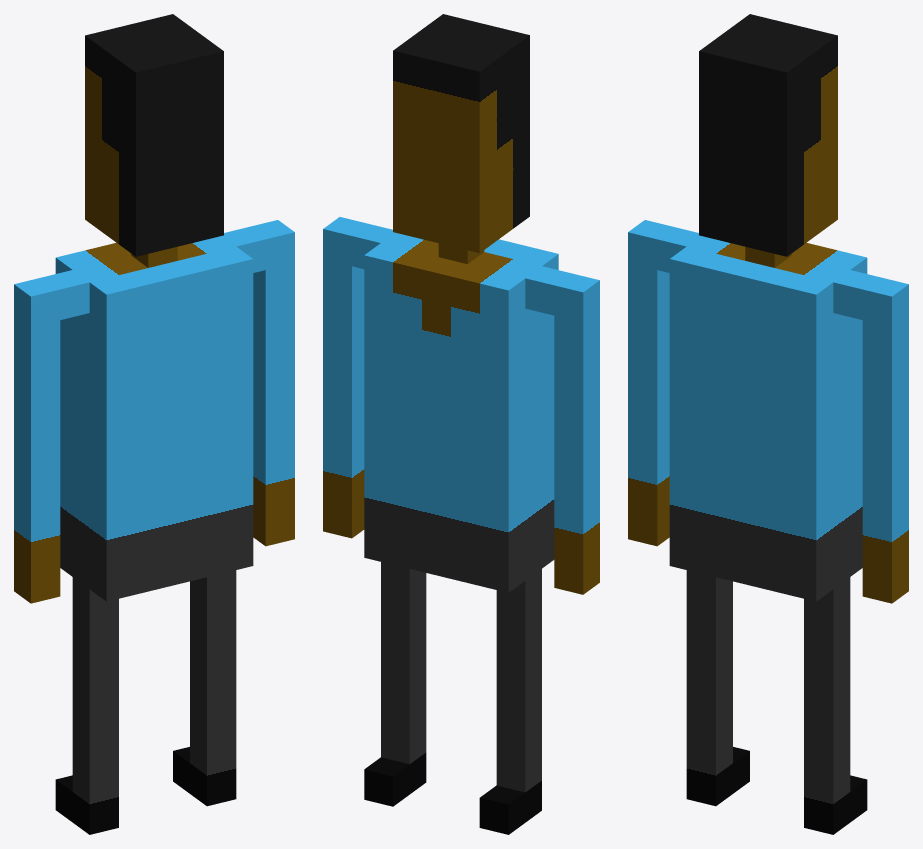
File: Person2.dae
3 renders of one model, left to right at view 1: azimuth 30°, elevation 25°; view 2: azimuth 150°, elevation 25°; view 3: azimuth 330°, elevation 25°, orthographic.
Parts seen in each view (by area): view 1: Person1; view 2: Person1; view 3: Person1.
Part boxes in pixels (x1,y1,x2,y2): Person1: [14, 14, 294, 834]; Person1: [323, 14, 599, 834]; Person1: [628, 14, 908, 834].
Size of the model in its own units: 9 by 25 by 3.
1 material, 1 textured.
